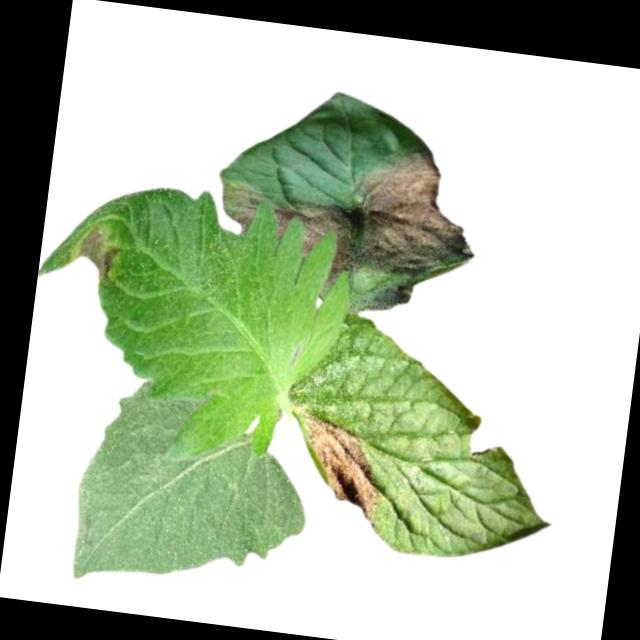Late_blight: (350, 142, 481, 286), (214, 180, 360, 276), (286, 405, 395, 528), (65, 220, 125, 292), (350, 274, 413, 318)
